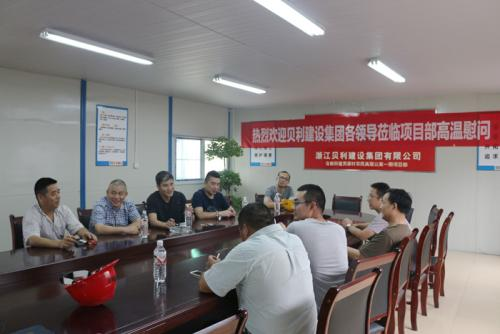person: (198, 201, 319, 334), (284, 183, 350, 315), (344, 188, 413, 281), (20, 177, 98, 250), (344, 188, 413, 261), (341, 182, 391, 247), (88, 178, 141, 235), (146, 170, 187, 229), (191, 170, 236, 219), (263, 170, 295, 209)
